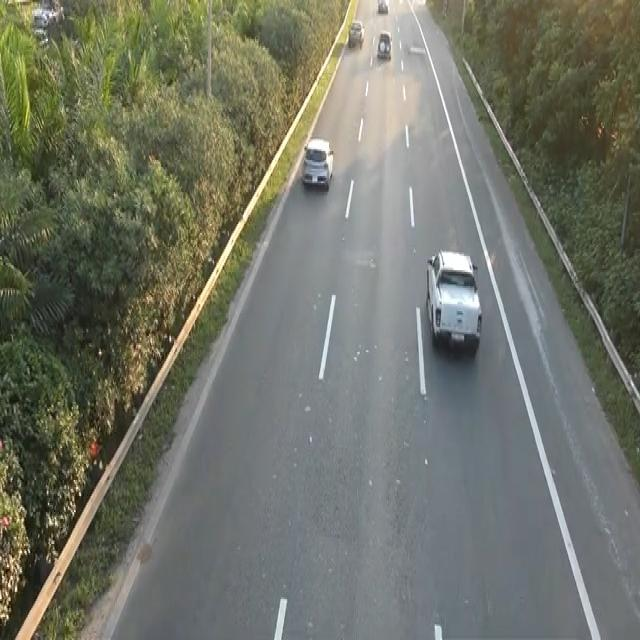bus: (301, 135, 334, 190)
car: (423, 244, 484, 356), (376, 28, 392, 61)
